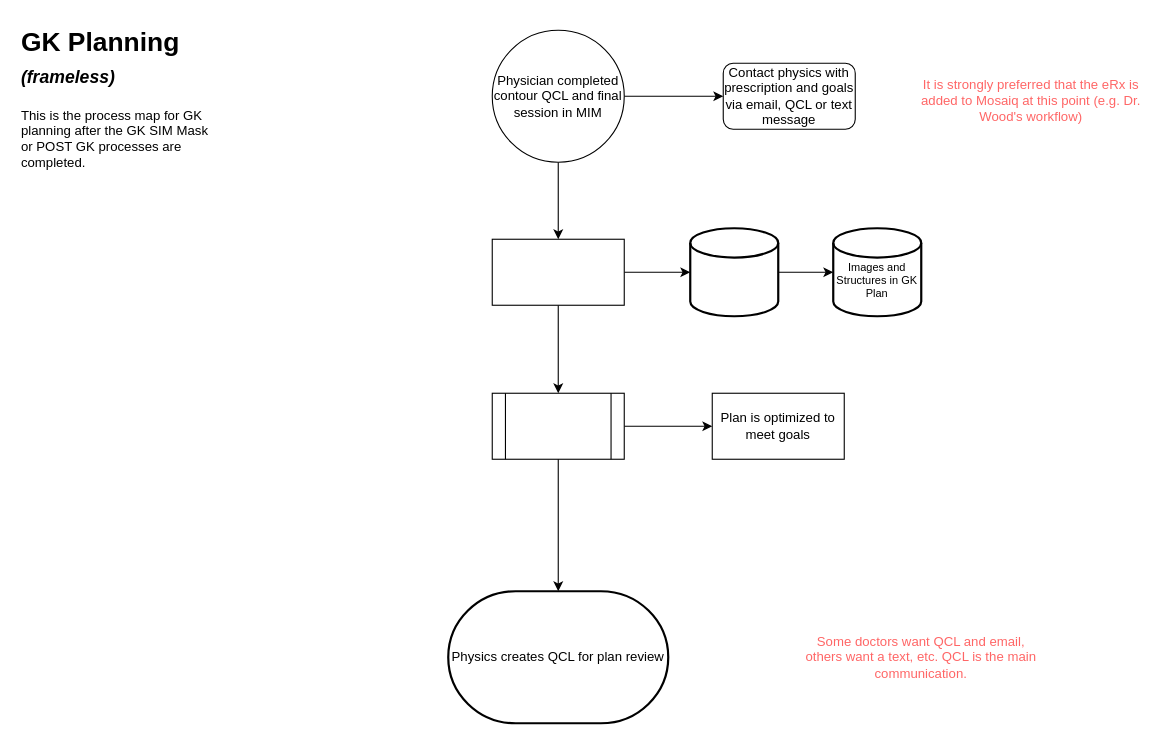
The diagram is 1170 pixels wide and 743 high, and some of its shapes have lost their labels. The centre of each missing label's shape, as x and y in pixels:
Images and structures in MIM: pixel 734 272
Initialize new GK Plan: pixel 557 425
Physics moves MIM Planning Images and Structures to GK Plan: pixel 557 271
